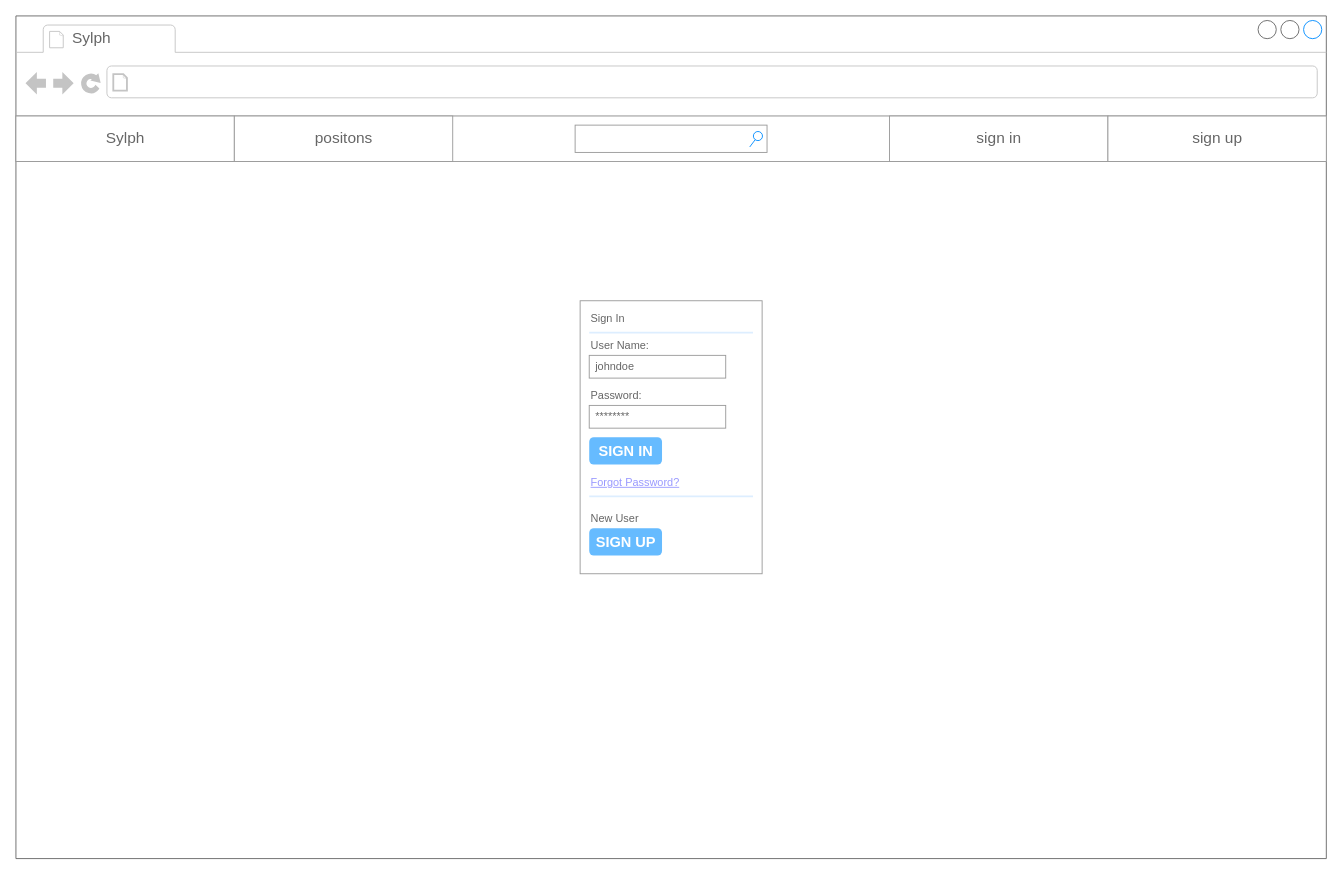
Image size: 1342x875. Some labels were removed from this diagram. Here are the shapes that lost their labels. From the top down, the box of each, then its label:
(133, 70, 362, 94): https://www.sylph.com/login
(574, 124, 767, 152): Search
